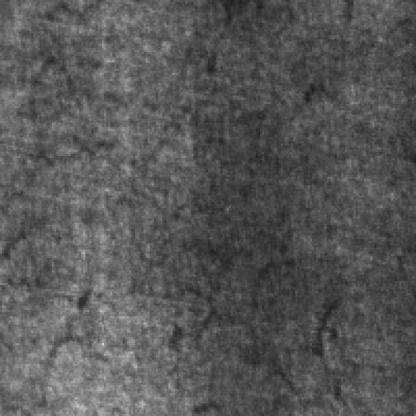crazing: (252, 250, 356, 410), (27, 50, 121, 168), (38, 278, 122, 402)
